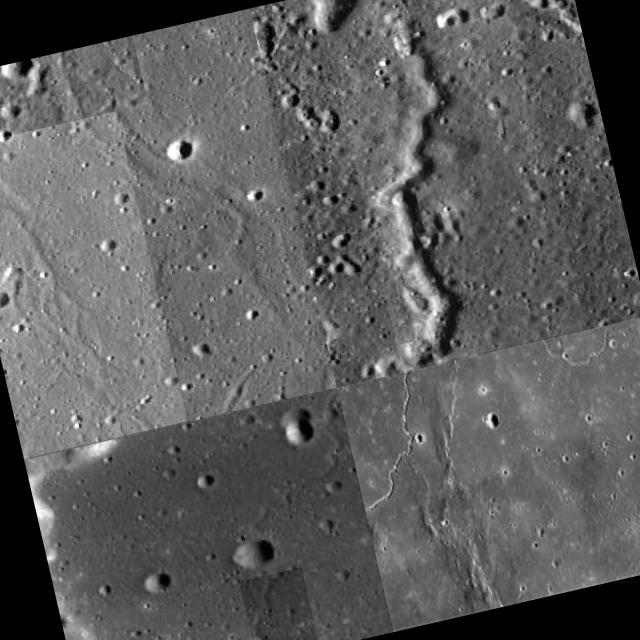rille: (49, 9, 334, 432), (315, 0, 585, 370), (335, 319, 640, 630), (0, 111, 187, 458), (220, 388, 362, 537), (238, 566, 319, 640)
